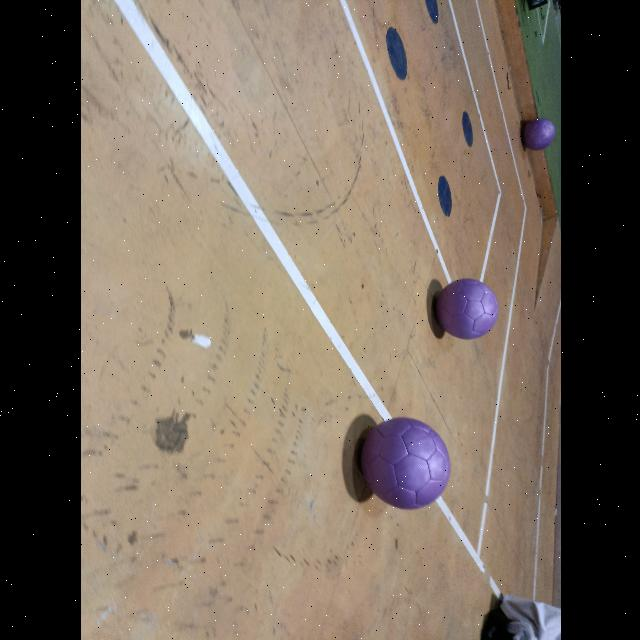P: (360, 418, 450, 508), (434, 279, 498, 339), (522, 118, 554, 150)
